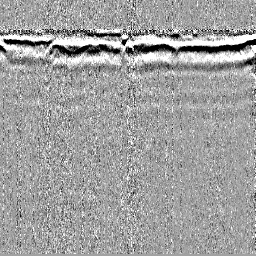cavity: (121, 39, 134, 55)
